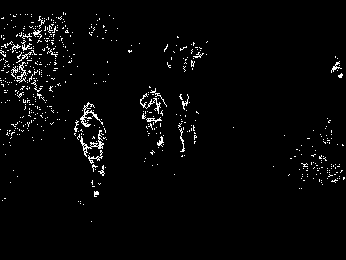person: (73, 101, 108, 198), (138, 82, 169, 165), (177, 91, 199, 157)
